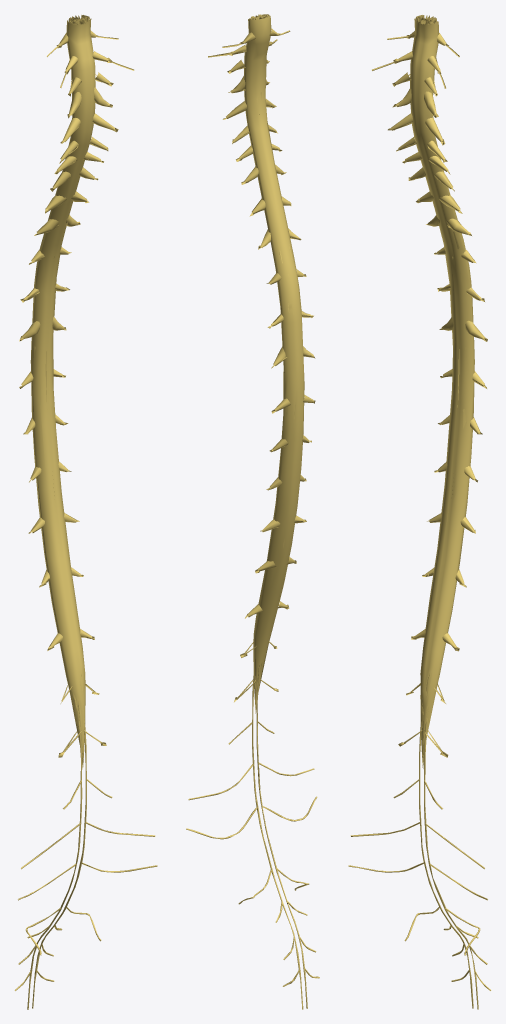
Rendered from spinal-cord.glb.
3 views of the same model, side by side, from view 1: azimuth 30°, elevation 25°; view 2: azimuth 210°, elevation 25°; view 3: azimuth 330°, elevation 25° (orthographic). The views are drawn at different scales.
Parts seen in each view (by area): view 1: ZA_spinal_dura, ZA_cauda_equina, ZA_white_matter_of_spinal_cord; view 2: ZA_spinal_dura, ZA_cauda_equina, ZA_white_matter_of_spinal_cord; view 3: ZA_spinal_dura, ZA_cauda_equina, ZA_white_matter_of_spinal_cord.
Boxes of the visible parts, x1,y1,x2,y2 form: ZA_spinal_dura: [21, 18, 114, 768]; ZA_cauda_equina: [14, 718, 157, 1009]; ZA_white_matter_of_spinal_cord: [34, 16, 90, 765]; ZA_spinal_dura: [226, 16, 313, 712]; ZA_cauda_equina: [186, 676, 319, 1009]; ZA_white_matter_of_spinal_cord: [249, 15, 300, 712]; ZA_spinal_dura: [391, 18, 484, 766]; ZA_cauda_equina: [348, 718, 491, 1009]; ZA_white_matter_of_spinal_cord: [415, 18, 466, 764].
Bounding box in the file's own units: 0.0932 × 0.6509 × 0.0776.
